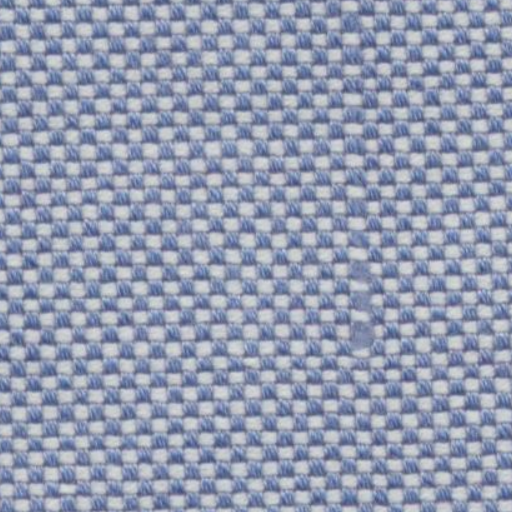TuoSha: (316, 16, 392, 370)
